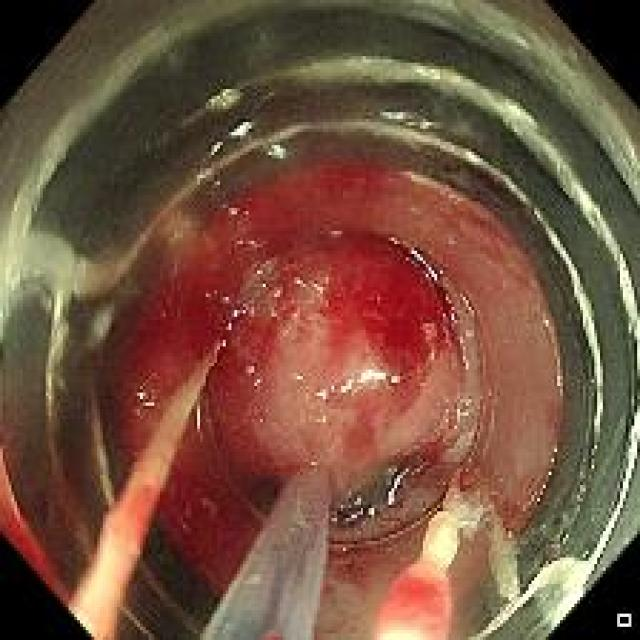blood: (112, 168, 416, 585), (2, 503, 68, 605), (377, 575, 451, 636)
color misalignment: (224, 296, 264, 336), (194, 169, 225, 194), (340, 509, 370, 529), (263, 143, 288, 162), (235, 129, 256, 147), (324, 227, 343, 242), (265, 306, 282, 322)
instrument: (7, 15, 631, 620), (72, 322, 206, 619), (195, 468, 325, 637), (380, 511, 454, 639)
specularity: (533, 550, 591, 625), (314, 367, 402, 400), (222, 284, 263, 331), (405, 244, 444, 290), (439, 393, 473, 430), (379, 470, 409, 508), (255, 140, 295, 166), (132, 385, 164, 415), (454, 328, 474, 376), (231, 228, 257, 256), (441, 291, 457, 335), (231, 116, 253, 144), (305, 411, 332, 432), (223, 203, 243, 227), (462, 288, 478, 317), (290, 266, 309, 290), (201, 133, 216, 163), (289, 369, 308, 391), (307, 279, 328, 296), (202, 171, 218, 193), (243, 359, 258, 381), (269, 285, 285, 303), (267, 305, 280, 325), (252, 379, 261, 397), (367, 504, 377, 518), (462, 331, 473, 339), (330, 515, 338, 524)
